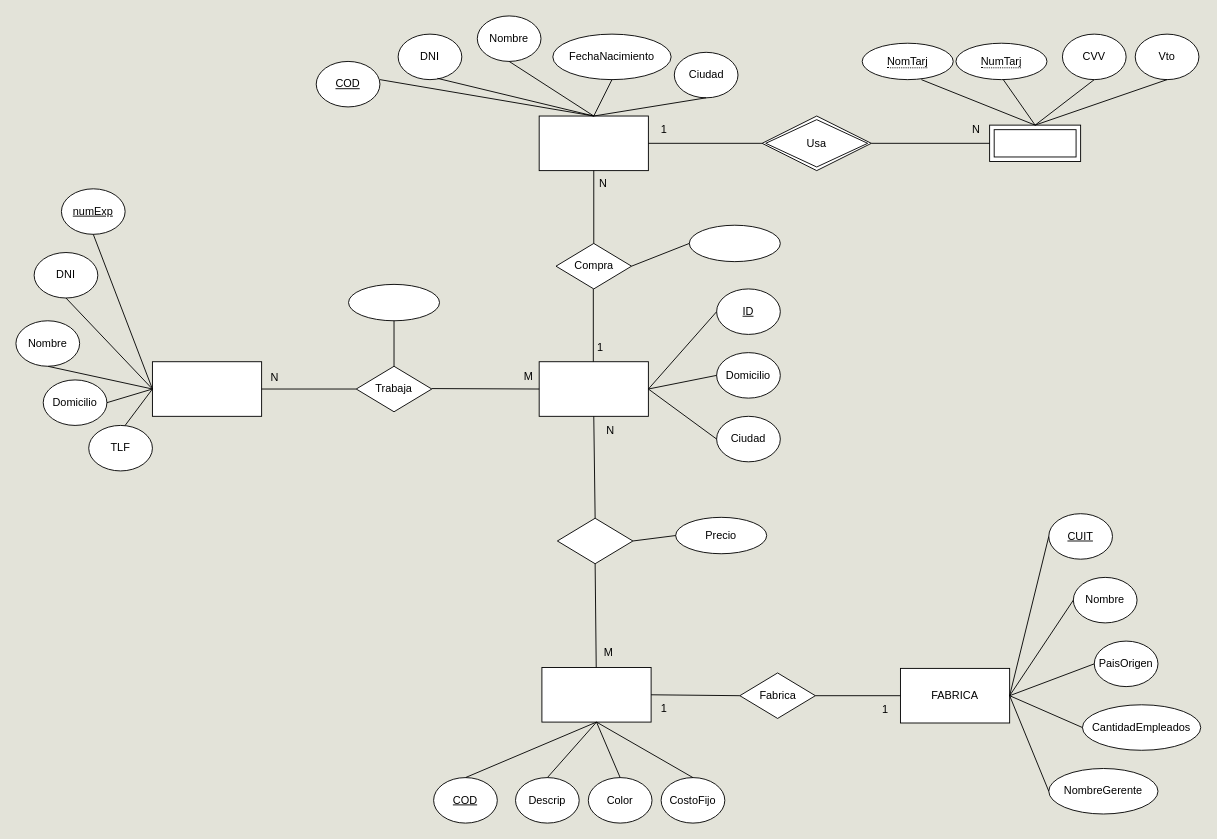
Some shapes in this 1217 by 839 pixel diagram are drawn without their labels. Here are the shapes that lost their labels. From the top down, the centre of each, then its label:
[593,143]: CLIENTE
[1035,143]: TARJETA
[734,243]: Descuento
[394,302]: Horario
[207,388]: EMPLEADO
[593,388]: SUCURSAL
[594,540]: Vende
[596,694]: PRODUCTO
